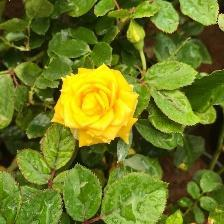rose: (53, 64, 140, 151)
